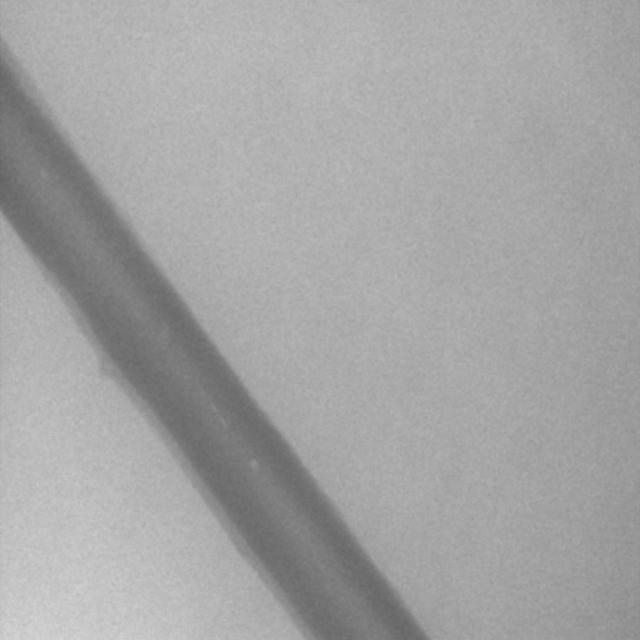air hole: (247, 454, 259, 470), (37, 165, 48, 180)
